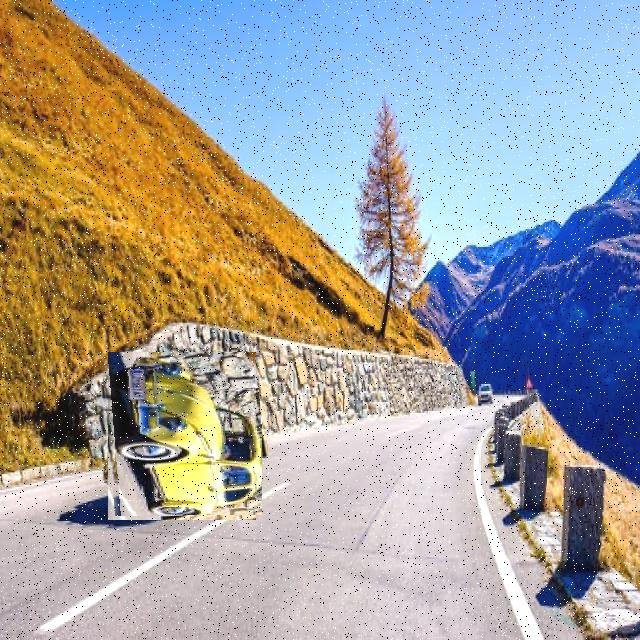car: (103, 358, 263, 517)
